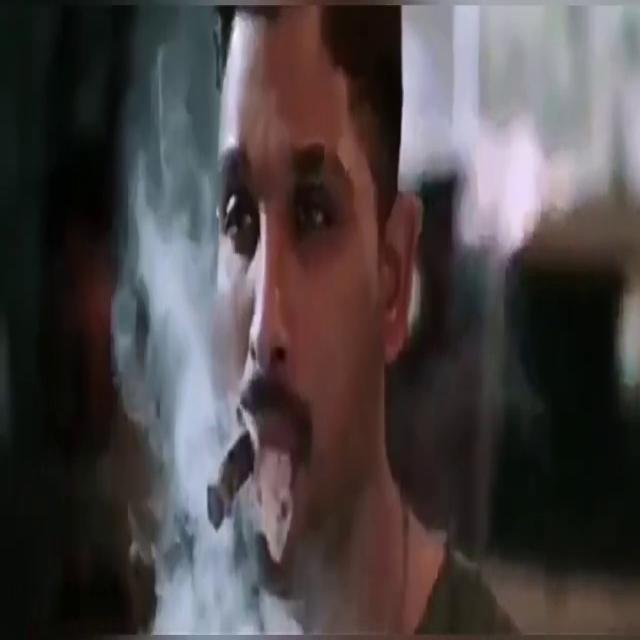smoking: (128, 115, 296, 620)
